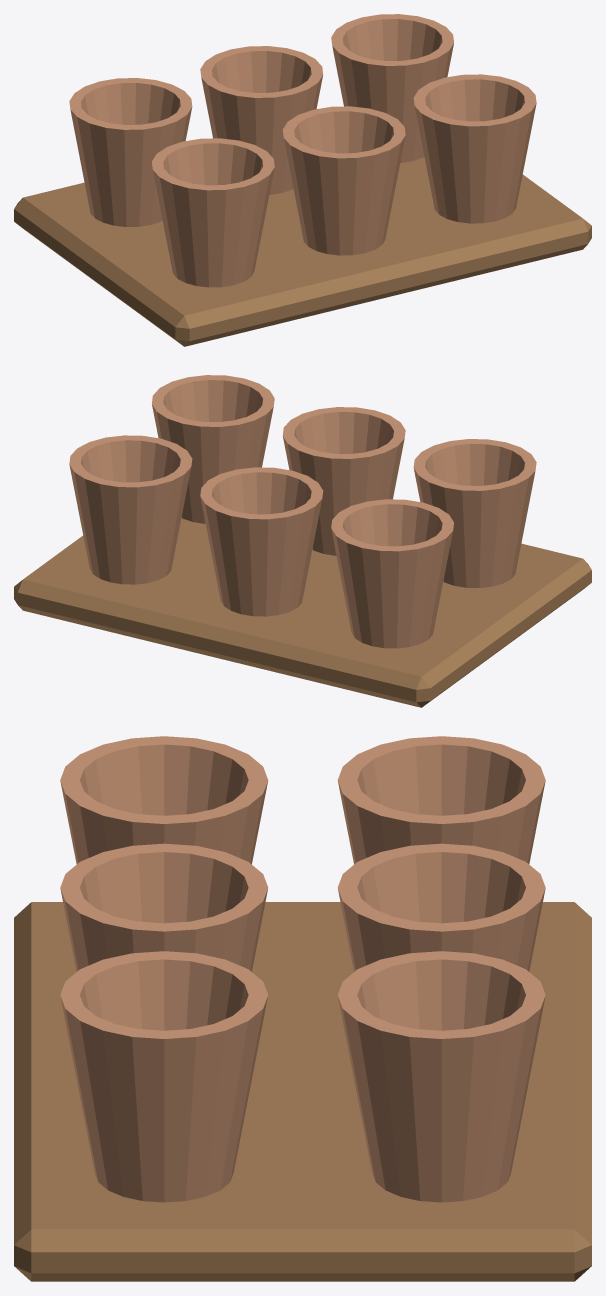
3 views of the same model, one above another, from view 1: azimuth 30°, elevation 25°; view 2: azimuth 150°, elevation 25°; view 3: azimuth 270°, elevation 25° (orthographic). The views are drawn at different scales.
Parts seen in each view (by area): view 1: CE-024 Briquetage salt-cake mold set batched; view 2: CE-024 Briquetage salt-cake mold set batched; view 3: CE-024 Briquetage salt-cake mold set batched.
Boxes of the visible parts, box(x1,y1,x2,y2) form: CE-024 Briquetage salt-cake mold set batched: box(14, 14, 591, 346); CE-024 Briquetage salt-cake mold set batched: box(14, 375, 591, 707); CE-024 Briquetage salt-cake mold set batched: box(14, 736, 591, 1281).
Size of the model in its own units: 0.7 by 0.22 by 0.5.
